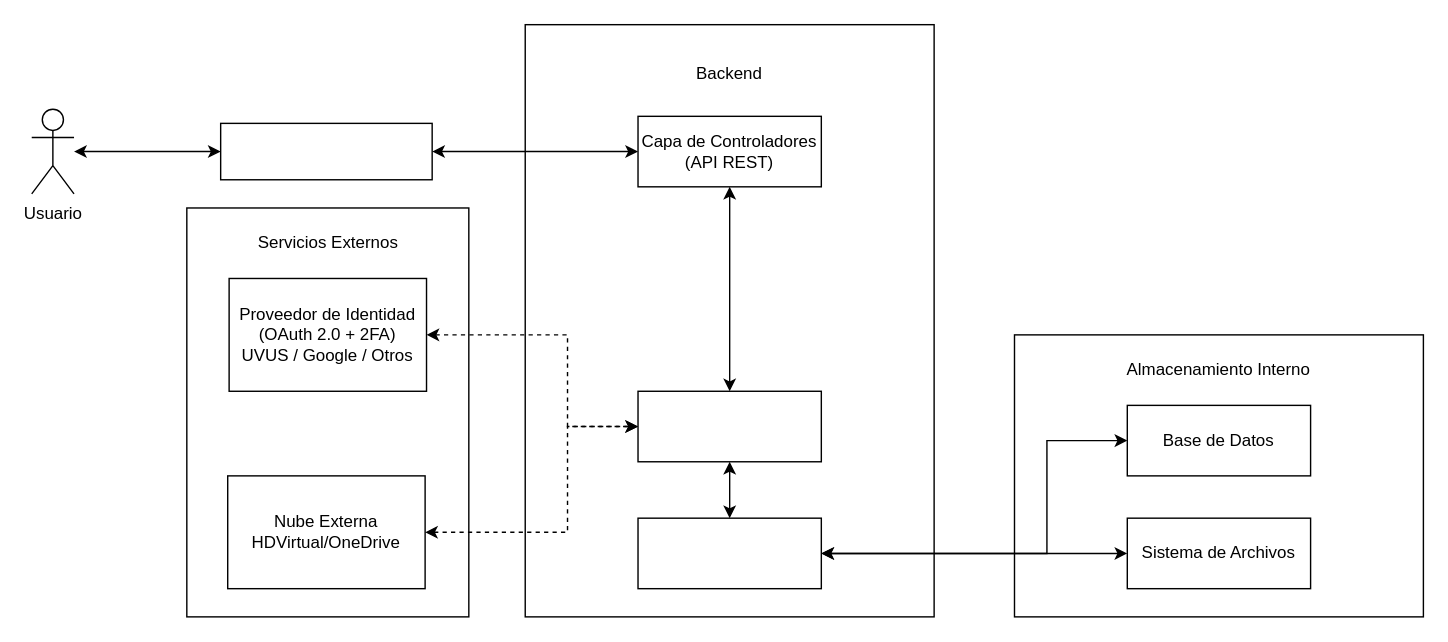
This 1448x642 diagram has some shape labels left out. Each missing label, with the box of its shape:
Capa de Lógica de Negocio (SGA, SPA, SGUS): (637, 390, 821, 462)
Capa de Persistencia (SPD): (637, 517, 821, 589)
Frontend: (219, 122, 432, 180)
